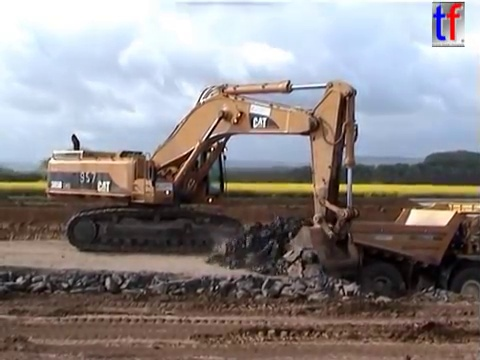excavator: (42, 77, 366, 286)
truck: (308, 200, 480, 319)
